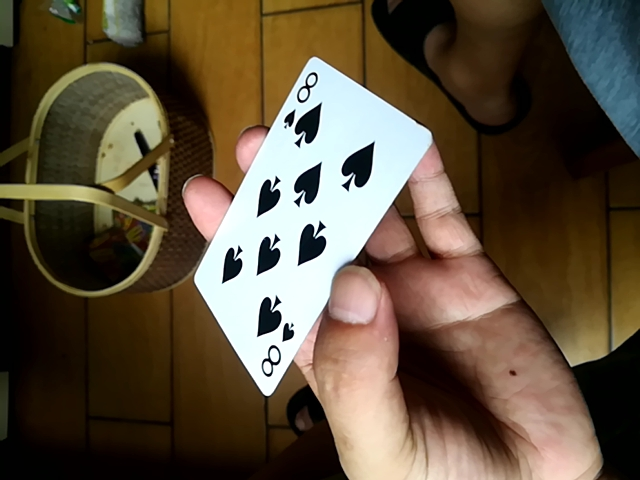ht 8: (189, 56, 428, 403)
